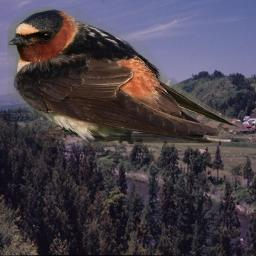Swallow: (7, 7, 242, 147)
